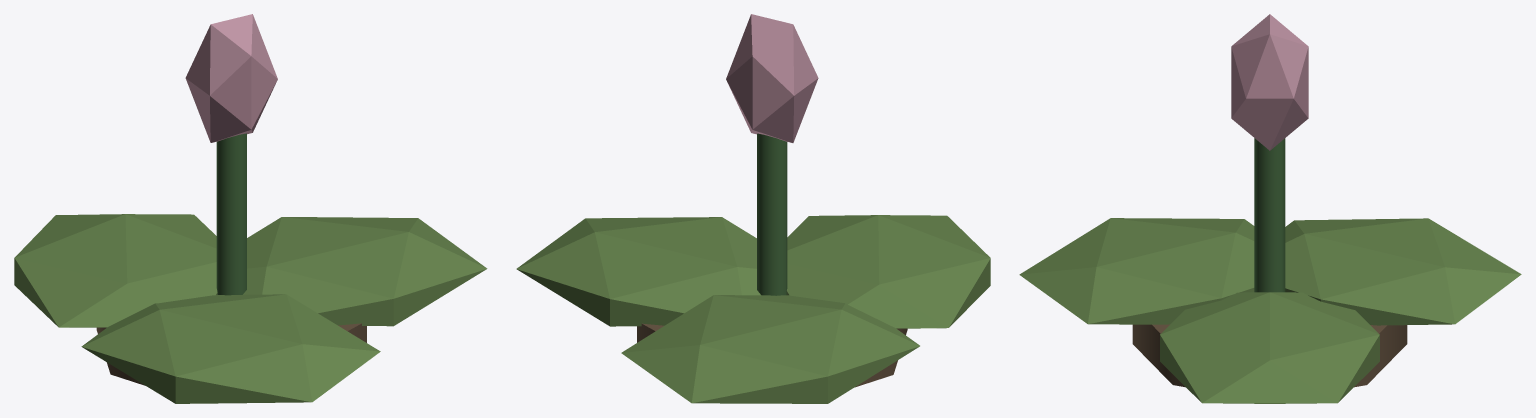
The model's file is plant-lotus-2.glb.
3 views of the same model, side by side, from view 1: azimuth 30°, elevation 25°; view 2: azimuth 150°, elevation 25°; view 3: azimuth 270°, elevation 25° (orthographic).
Visible parts, largest first — view 1: plant-lotus-2-visual; view 2: plant-lotus-2-visual; view 3: plant-lotus-2-visual.
Part boxes in pixels (<box>): plant-lotus-2-visual: <box>14,14,487,403</box>; plant-lotus-2-visual: <box>516,14,990,403</box>; plant-lotus-2-visual: <box>1019,14,1521,403</box>.
Size of the model in its own units: 0.5077 by 0.411 by 0.5853.
